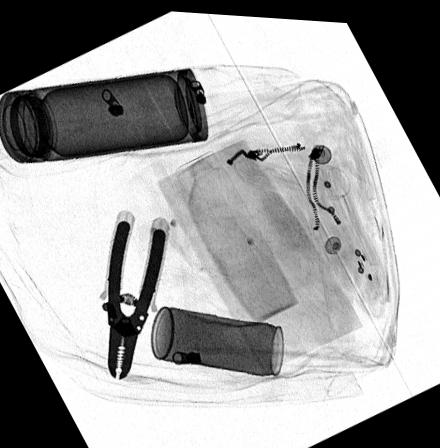Pliers: (105, 216, 165, 378)
